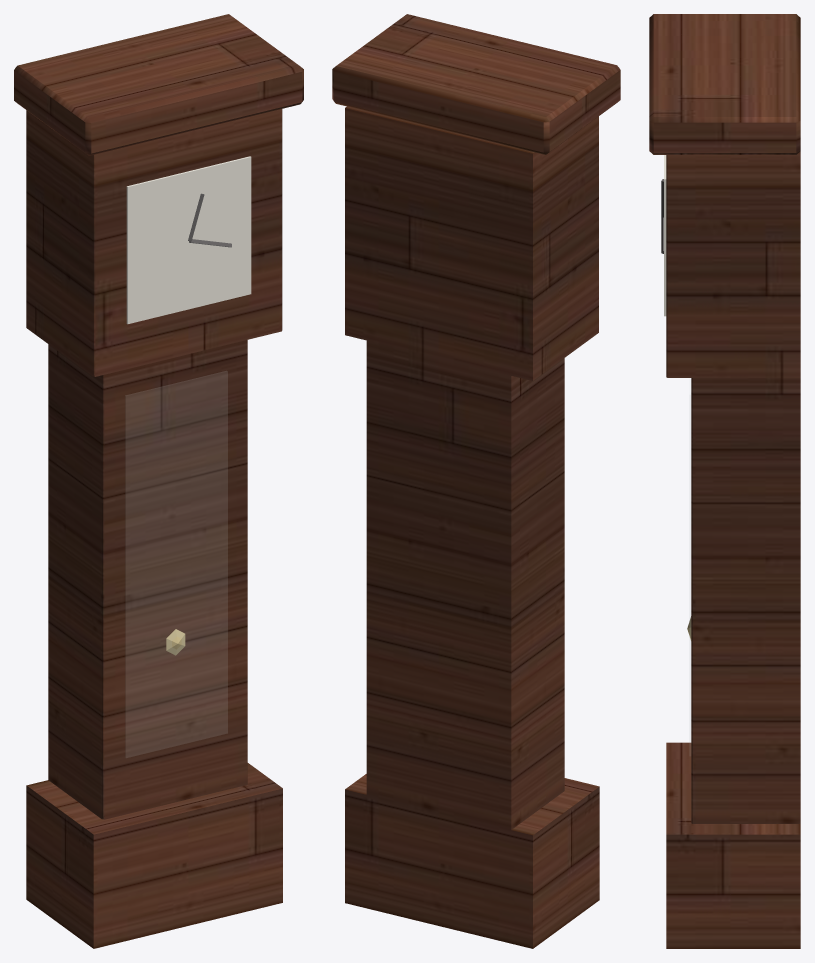
The model's file is grandfather_clock.glb.
The picture shows the model from 3 angles, left to right: view 1: azimuth 30°, elevation 25°; view 2: azimuth 150°, elevation 25°; view 3: azimuth 270°, elevation 25°; orthographic projection.
Visible parts, largest first — view 1: grandfather_clock_dkwood, grandfather_clock_glass, grandfather_clock_cream; view 2: grandfather_clock_dkwood; view 3: grandfather_clock_dkwood, grandfather_clock_cream, grandfather_clock_glass.
Boxes of the visible parts, left/top/right/bottom form: grandfather_clock_dkwood: left=14, top=14, right=303, bottom=948; grandfather_clock_glass: left=125, top=371, right=227, bottom=757; grandfather_clock_cream: left=126, top=156, right=251, bottom=324; grandfather_clock_dkwood: left=332, top=14, right=620, bottom=948; grandfather_clock_dkwood: left=649, top=14, right=800, bottom=948; grandfather_clock_cream: left=664, top=155, right=666, bottom=316; grandfather_clock_glass: left=690, top=378, right=690, bottom=755.
Size of the model in its own units: 0.6 by 2.2 by 0.36.
5 materials, 1 textured.
